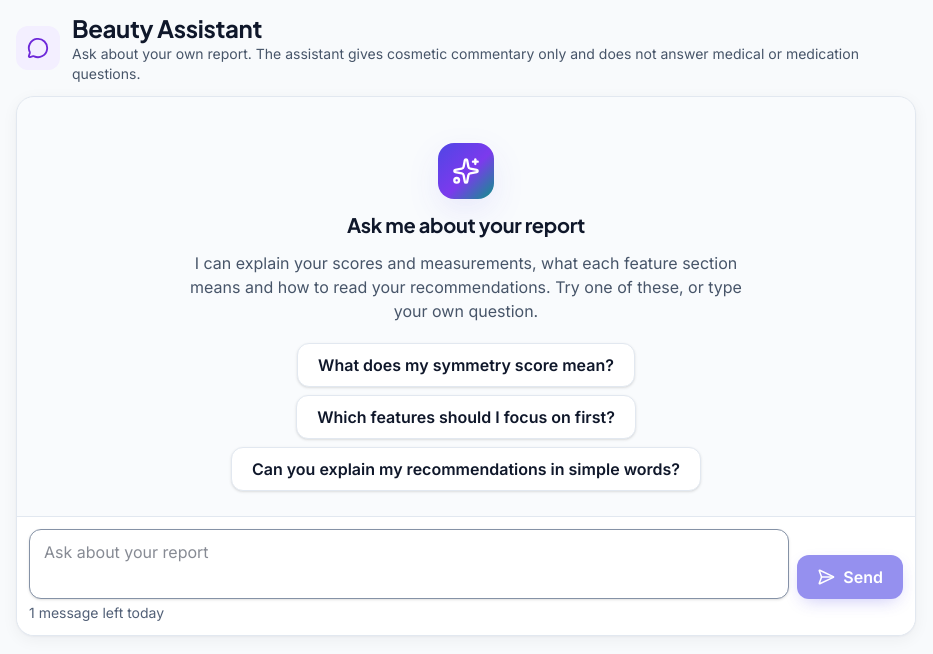
Scenario: The chat screen › at the limit shows when chat reopens and keeps the draft (AC10.3.1)
In the text box with test id "chat-input": (409, 564) x1=29 y1=529 x2=789 y2=599, type "One more"
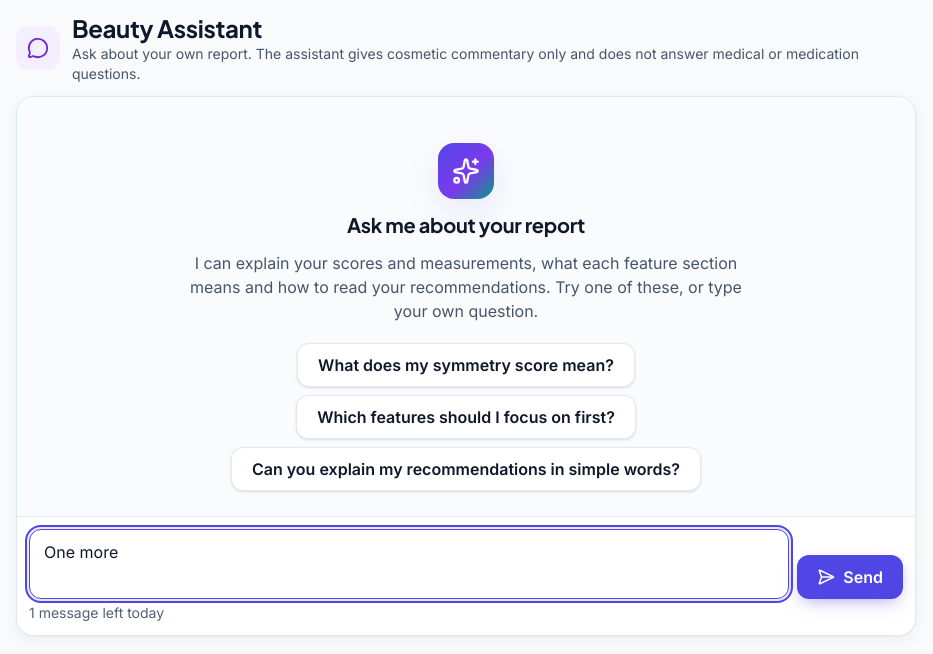
Click the button with test id "chat-send-button": (850, 577) x1=797 y1=555 x2=903 y2=599
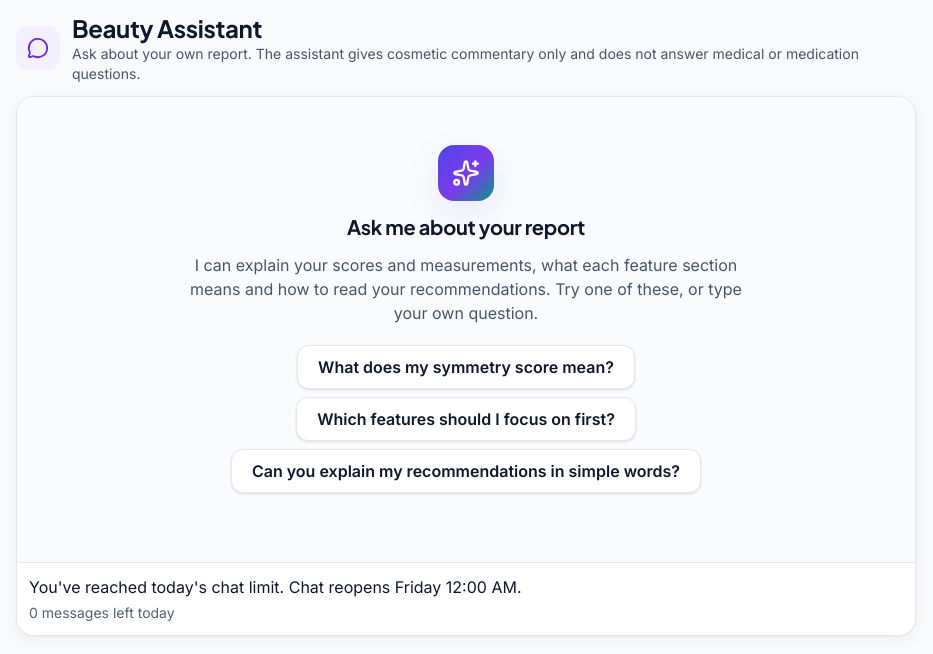
Now the message with test id "chat-limit" shows "reached today's chat limit", box x1=29 y1=577 x2=289 y2=597
Now the message with test id "chat-limit" shows "Chat reopens", box x1=289 y1=577 x2=522 y2=597
Now the text box with test id "chat-input" is gone
